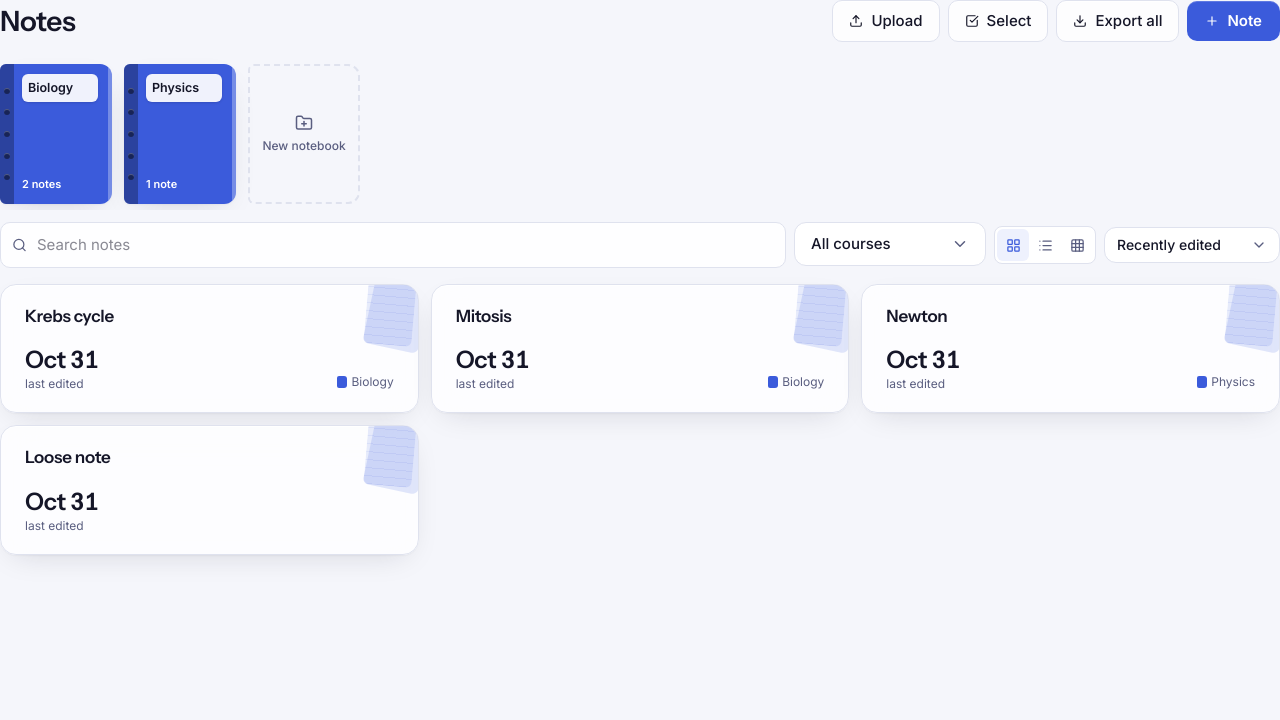
Test: moving notes into a notebook › makes the notebook once even if Create and move is pressed twice, and keeps it in the list if the move fails
Expected: the text "Krebs cycle" is shown, [25, 306, 114, 326]
Right-click the link "Loose note Oct 31 last edited" at (68, 457), box [0, 425, 419, 555]
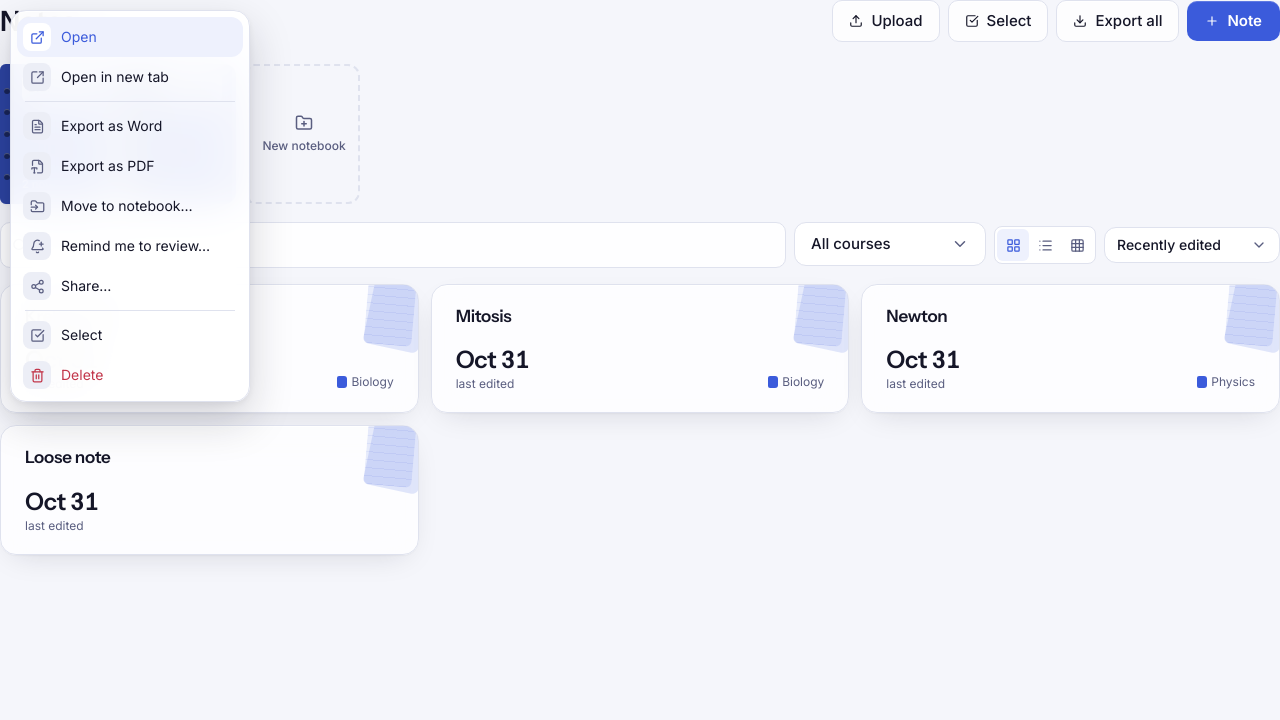
Click the menu item "Move to notebook…" at (130, 206), box [17, 186, 243, 226]
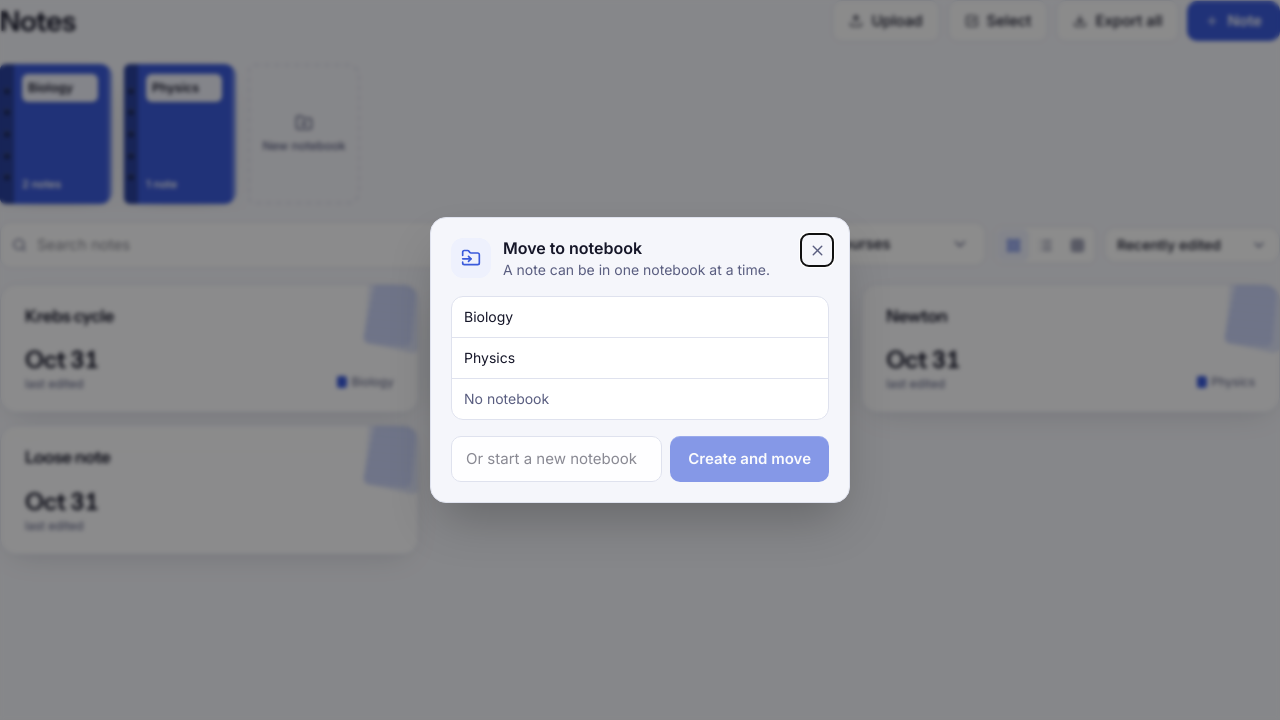
Type "History" into the field labelled "new notebook" at (557, 459), box [451, 436, 662, 482]
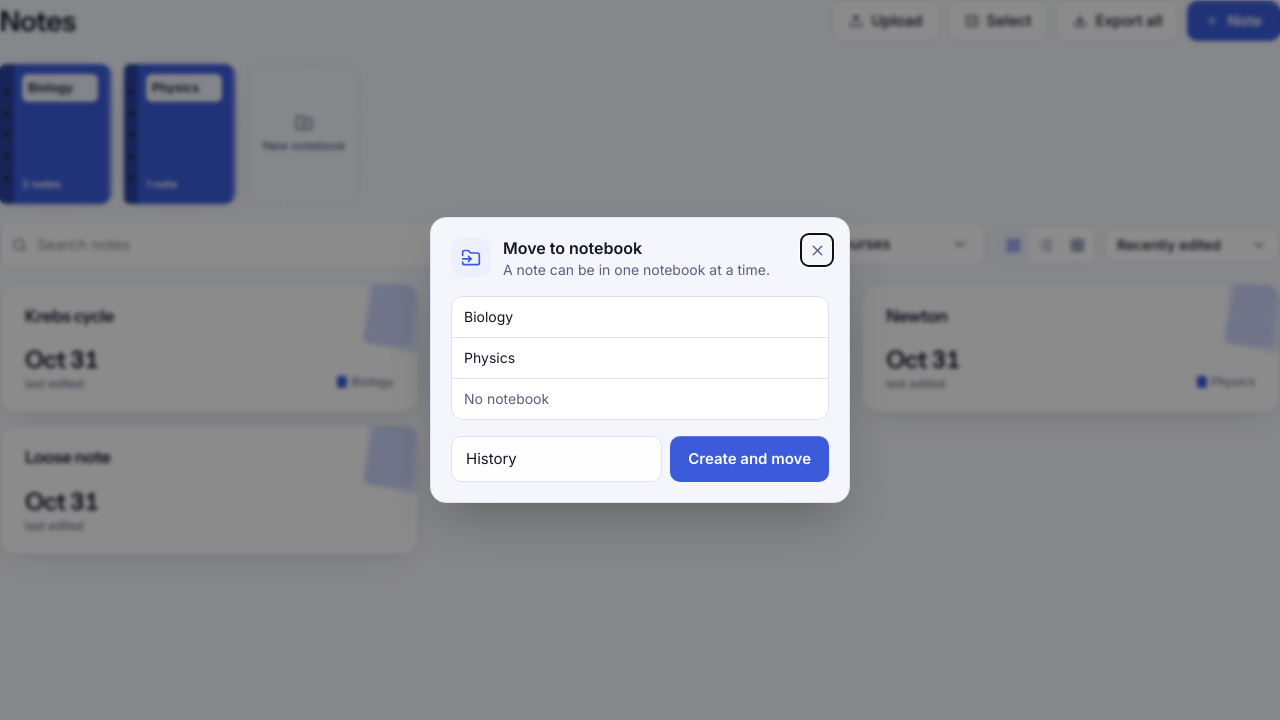
Submit the form named "New notebook", box [451, 436, 829, 482]
Submit the form named "New notebook", box [451, 436, 829, 482]
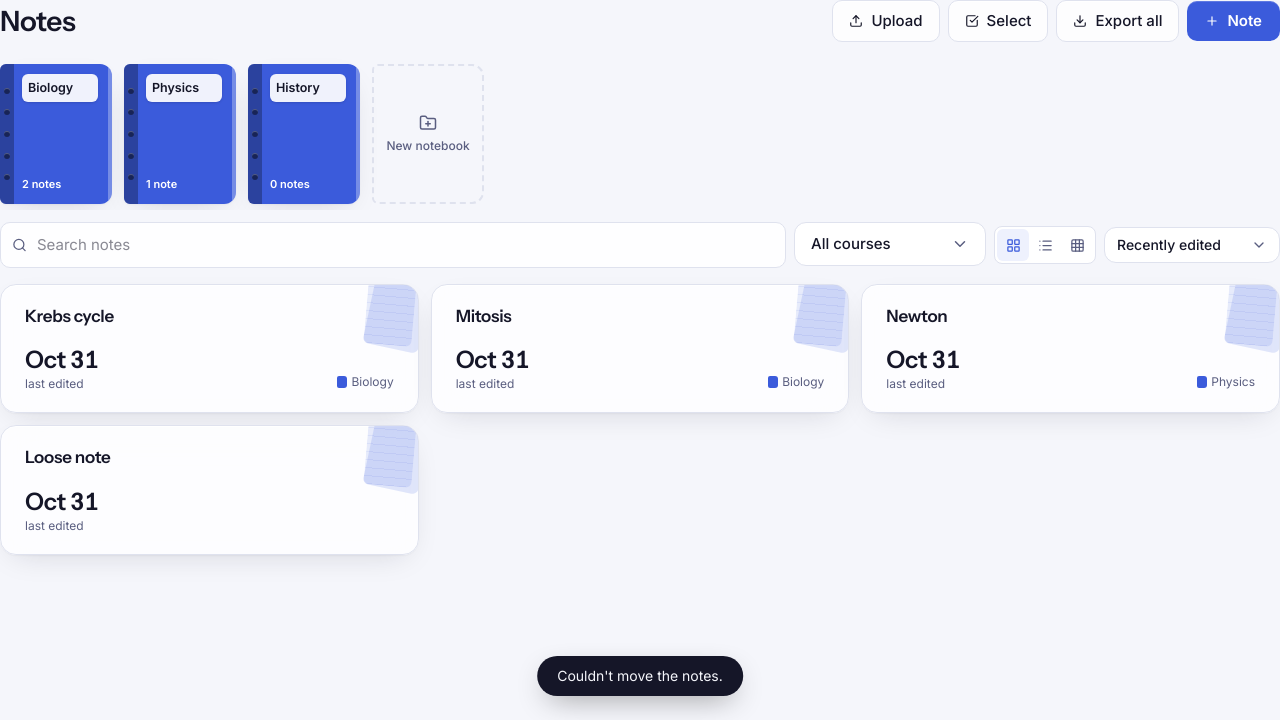
Now the link with aria-label "Open History" is shown, box [248, 64, 360, 204]
